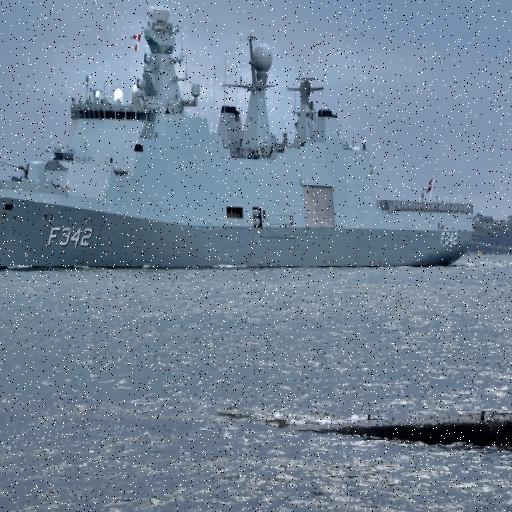Fragata: (1, 1, 475, 274)
